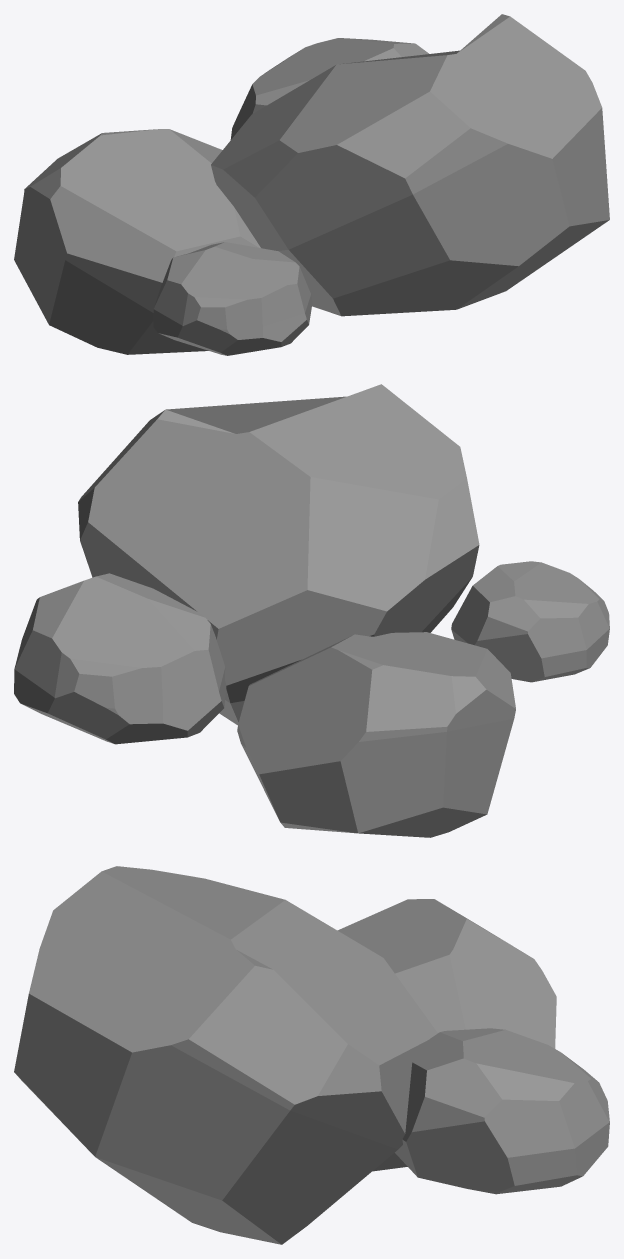
The model's file is Rock3.fbx.
The picture shows the model from 3 angles, top to bottom: view 1: azimuth 30°, elevation 25°; view 2: azimuth 150°, elevation 25°; view 3: azimuth 270°, elevation 25°; orthographic projection. The views are drawn at different scales.
Visible parts, largest first — view 1: Cube.122, Cube.123, Cube.125, Cube.124; view 2: Cube.122, Cube.123, Cube.124, Cube.125; view 3: Cube.122, Cube.124, Cube.123.
Part boxes in pixels (x1,y1,x2,y2): Cube.122: [211, 14, 609, 316]; Cube.123: [14, 129, 260, 354]; Cube.125: [153, 242, 312, 355]; Cube.124: [230, 38, 428, 139]; Cube.122: [78, 384, 479, 725]; Cube.123: [237, 632, 515, 837]; Cube.124: [14, 573, 226, 744]; Cube.125: [451, 561, 609, 682]; Cube.122: [14, 866, 437, 1244]; Cube.124: [395, 1028, 609, 1194]; Cube.123: [337, 899, 556, 1171].
Bounding box in the file's own units: 1.78 × 1.77 × 1.13.
